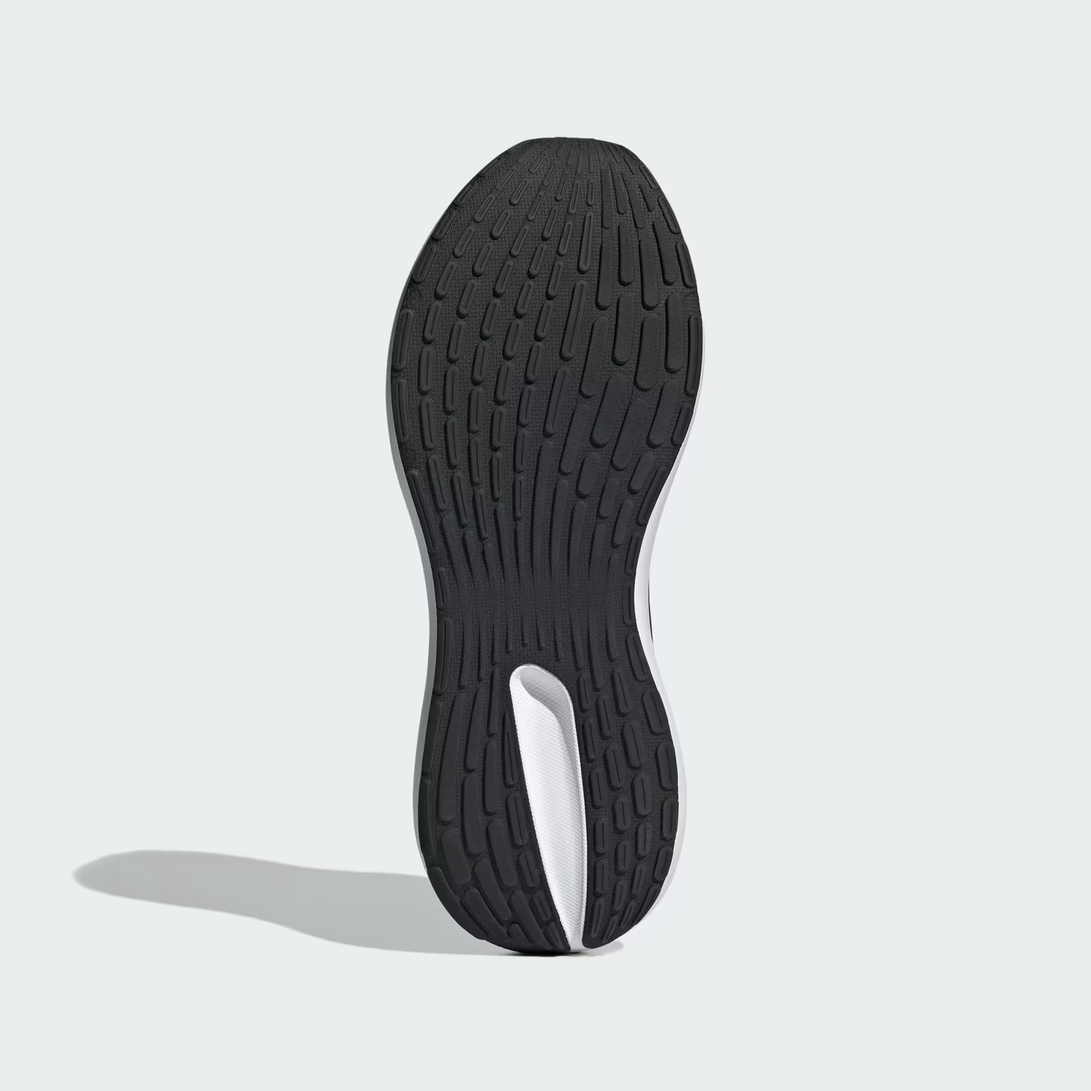shoe: (381, 132, 709, 965)
